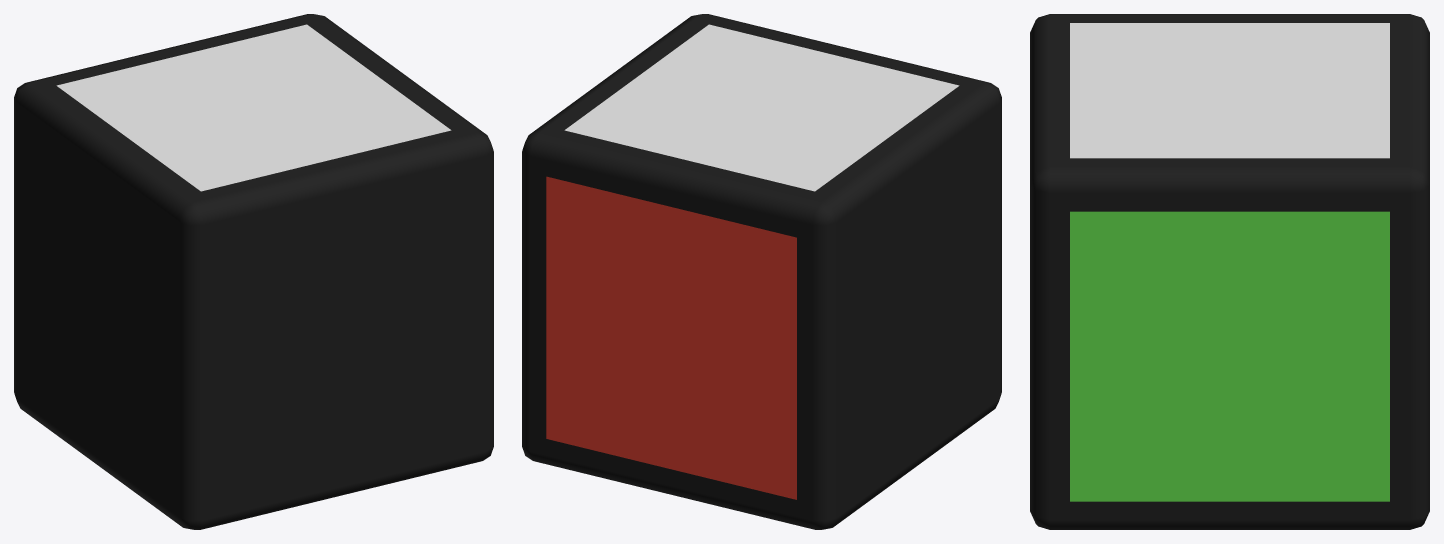
The picture shows the model from 3 angles, left to right: view 1: azimuth 30°, elevation 25°; view 2: azimuth 150°, elevation 25°; view 3: azimuth 270°, elevation 25°; orthographic projection. The views are drawn at different scales.
Parts seen in each view (by area): view 1: 27; view 2: 27; view 3: 27.
Part boxes in pixels (box(x1,y1,x2,y2)): 27: box(14, 14, 493, 529); 27: box(522, 14, 1001, 529); 27: box(1030, 14, 1429, 529).
Size of the model in its own units: 2 by 2 by 2.
